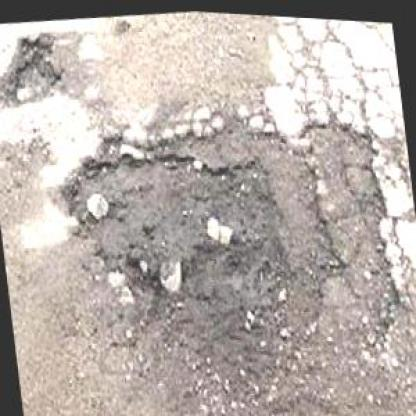pothole: (53, 93, 352, 412), (0, 25, 71, 114)
